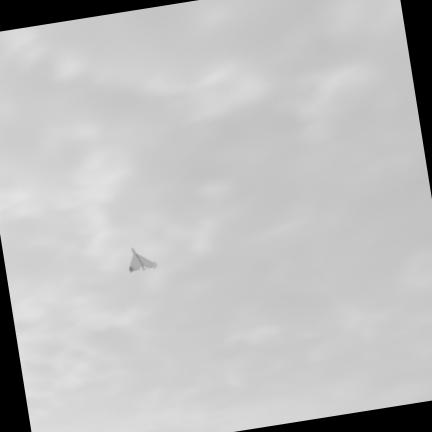Shahed: (130, 248, 156, 272)
